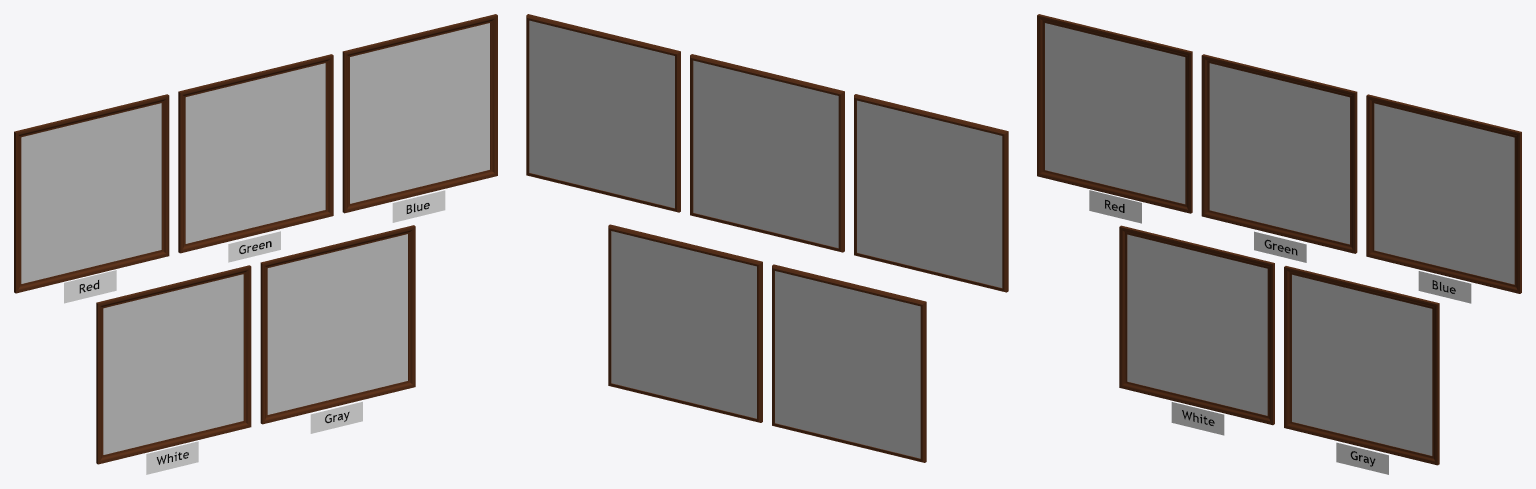
The model's file is PointLightIntensityTest.glb.
3 views of the same model, side by side, from view 1: azimuth 30°, elevation 25°; view 2: azimuth 150°, elevation 25°; view 3: azimuth 330°, elevation 25° (orthographic).
Parts seen in each view (by area): view 1: Test 4 - White, Test 1 - Red, Test 2 - Green, Test 5 - Gray, Test 3 - Blue, Labels, Frame.001, Frame.003, Frame, Frame.002, Frame.004; view 2: Test 5 - Gray, Test 2 - Green, Test 4 - White, Test 3 - Blue, Test 1 - Red, Frame.003, Frame.004, Frame, Frame.002, Frame.001; view 3: Test 4 - White, Test 3 - Blue, Test 2 - Green, Test 5 - Gray, Test 1 - Red, Labels, Frame.003, Frame, Frame.002, Frame.004, Frame.001.
Part boxes in pixels (x1=…): Test 4 - White: x1=103, y1=274, x2=243, y2=454; Test 1 - Red: x1=21, y1=103, x2=161, y2=283; Test 2 - Green: x1=185, y1=63, x2=325, y2=243; Test 5 - Gray: x1=267, y1=234, x2=407, y2=414; Test 3 - Blue: x1=350, y1=23, x2=489, y2=203; Labels: x1=64, y1=190, x2=445, y2=474; Frame.001: x1=14, y1=94, x2=169, y2=293; Frame.003: x1=178, y1=54, x2=333, y2=253; Frame: x1=96, y1=265, x2=251, y2=464; Frame.002: x1=342, y1=14, x2=497, y2=213; Frame.004: x1=260, y1=225, x2=415, y2=424; Test 5 - Gray: x1=611, y1=231, x2=756, y2=418; Test 2 - Green: x1=693, y1=60, x2=838, y2=248; Test 4 - White: x1=775, y1=271, x2=920, y2=458; Test 3 - Blue: x1=529, y1=20, x2=674, y2=208; Test 1 - Red: x1=857, y1=100, x2=1002, y2=287; Frame.003: x1=690, y1=54, x2=844, y2=252; Frame.004: x1=608, y1=224, x2=762, y2=422; Frame: x1=772, y1=264, x2=926, y2=462; Frame.002: x1=526, y1=14, x2=680, y2=212; Frame.001: x1=854, y1=94, x2=1008, y2=292; Test 4 - White: x1=1127, y1=234, x2=1267, y2=415; Test 3 - Blue: x1=1374, y1=103, x2=1514, y2=284; Test 2 - Green: x1=1209, y1=63, x2=1349, y2=244; Test 5 - Gray: x1=1292, y1=274, x2=1432, y2=455; Test 1 - Red: x1=1045, y1=23, x2=1185, y2=203; Labels: x1=1089, y1=190, x2=1471, y2=474; Frame.003: x1=1201, y1=54, x2=1357, y2=253; Frame: x1=1119, y1=225, x2=1274, y2=425; Frame.002: x1=1366, y1=94, x2=1521, y2=293; Frame.004: x1=1284, y1=266, x2=1439, y2=465; Frame.001: x1=1037, y1=14, x2=1192, y2=213.
Size of the model in its own units: 6.6 by 4.92 by 0.0634.
Materials: 3 (1 with a texture image).
